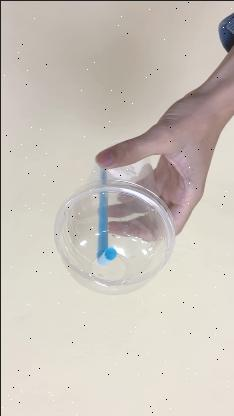Others: (52, 141, 174, 297)
